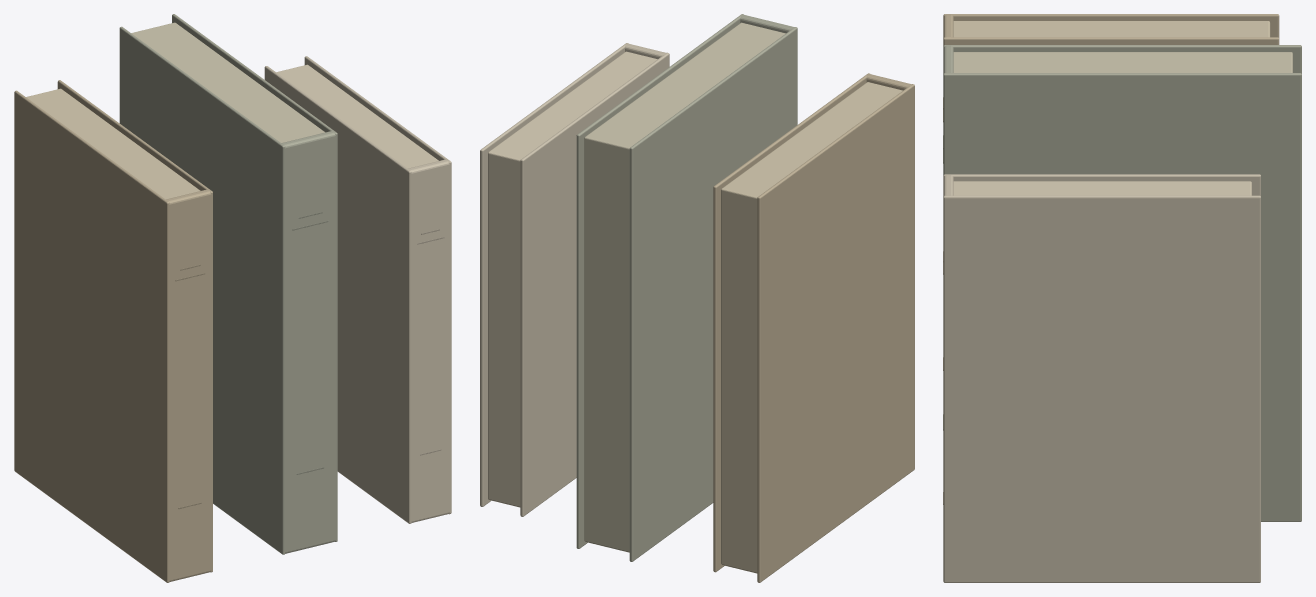
The model's file is 03_DecorBindings.glb.
3 views of the same model, side by side, from view 1: azimuth 30°, elevation 25°; view 2: azimuth 150°, elevation 25°; view 3: azimuth 270°, elevation 25° (orthographic). The views are drawn at different scales.
Visible parts, largest first — view 1: Decor_Oat, Decor_Mist, Decor_Chalk; view 2: Decor_Oat, Decor_Mist, Decor_Chalk; view 3: Decor_Chalk, Decor_Mist, Decor_Oat.
Boxes of the visible parts, x1,y1,x2,y2 form: Decor_Oat: (14,80,212,582); Decor_Mist: (119,14,337,554); Decor_Chalk: (264,56,451,523); Decor_Oat: (713,73,914,582); Decor_Mist: (576,14,797,561); Decor_Chalk: (480,43,669,516); Decor_Chalk: (943,174,1260,582); Decor_Mist: (943,45,1301,521); Decor_Oat: (943,14,1279,370).
Bounding box in the file's own units: 0.159 × 0.218 × 0.1582.
